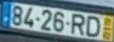2: (40, 9, 53, 31)
4: (23, 7, 34, 28)
6: (52, 11, 65, 33)
8: (12, 4, 24, 27)
D: (86, 15, 101, 38)
R: (70, 13, 85, 36)
